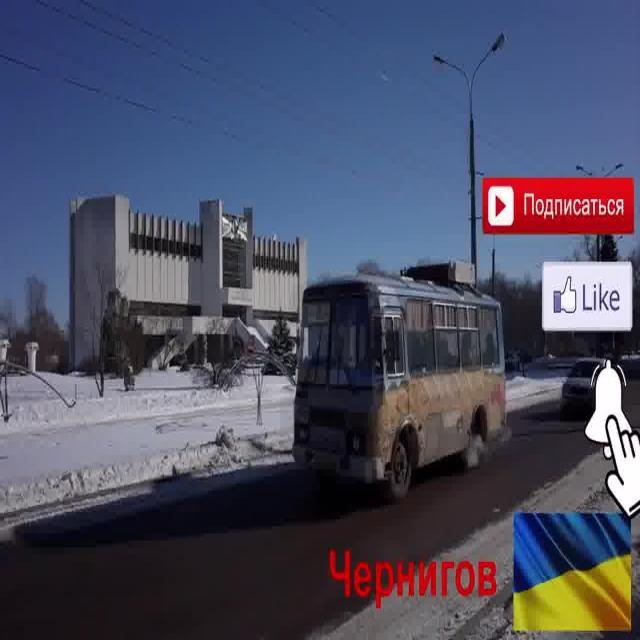Bus: (291, 258, 507, 502)
